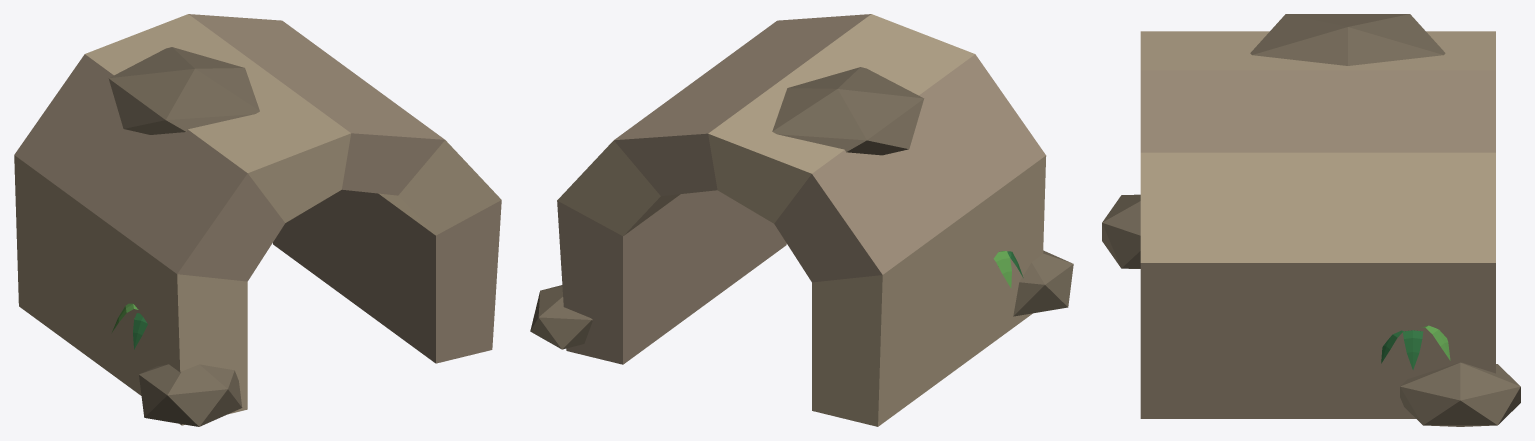
Rendered from Tropical_LagoonGrotto_Standard.glb.
3 views of the same model, side by side, from view 1: azimuth 30°, elevation 25°; view 2: azimuth 150°, elevation 25°; view 3: azimuth 270°, elevation 25° (orthographic). The views are drawn at different scales.
Visible parts, largest first — view 1: Tropical_LagoonGrotto_Standard; view 2: Tropical_LagoonGrotto_Standard; view 3: Tropical_LagoonGrotto_Standard.
Boxes of the visible parts, x1,y1,x2,y2 form: Tropical_LagoonGrotto_Standard: [14, 14, 501, 426]; Tropical_LagoonGrotto_Standard: [530, 14, 1073, 426]; Tropical_LagoonGrotto_Standard: [1102, 14, 1520, 426].
Bounding box in the file's own units: 8.19 × 5.45 × 7.07.
